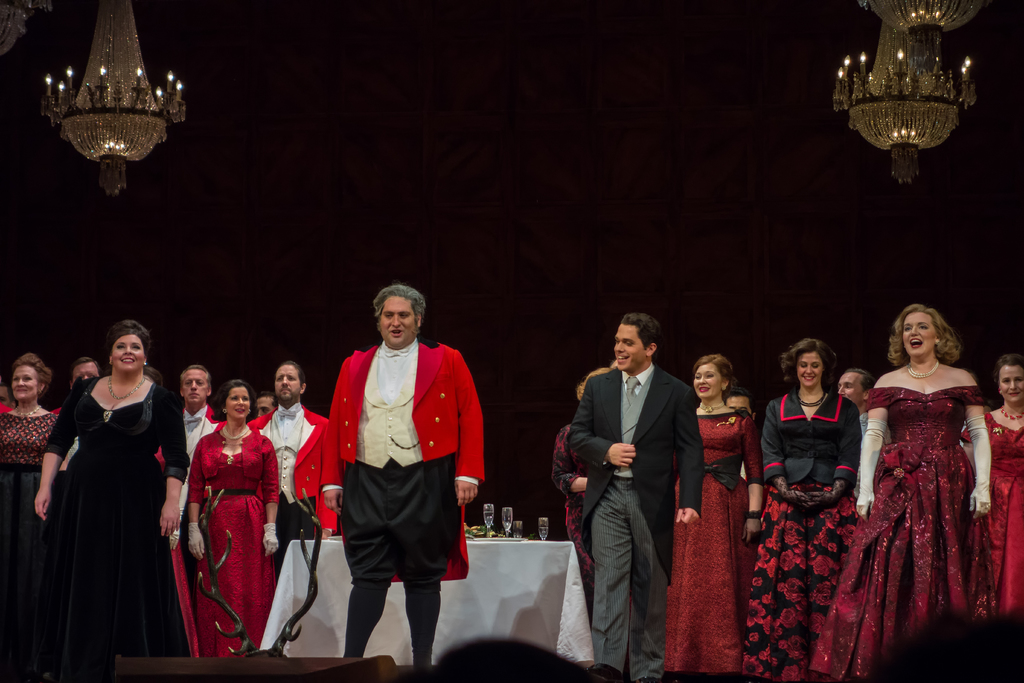Person: (0, 279, 1024, 683)
